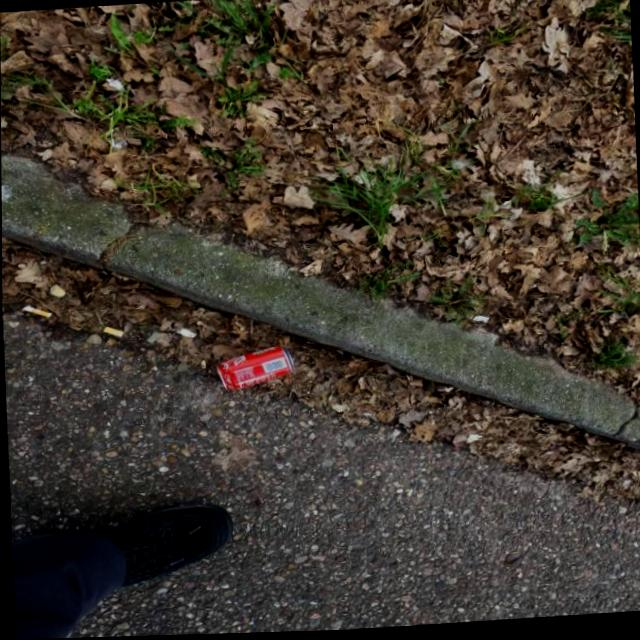Can-Metal: (214, 344, 296, 393)
